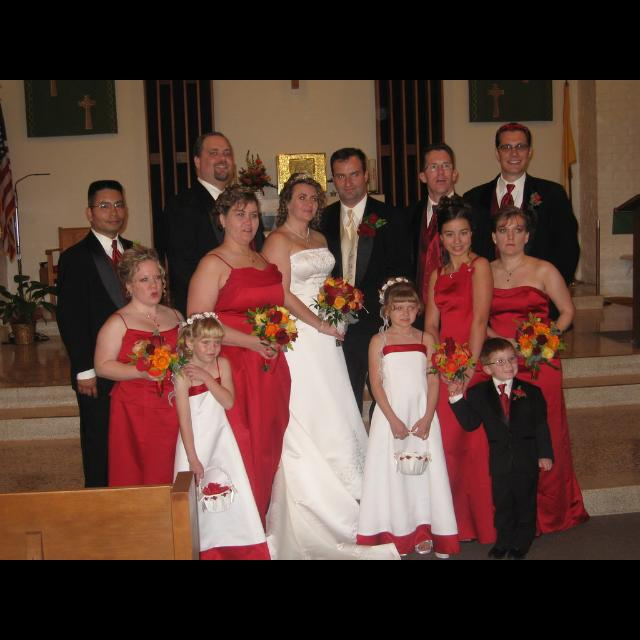Flower: (517, 318, 563, 362), (315, 278, 361, 316), (258, 310, 298, 348), (438, 340, 468, 380), (136, 336, 160, 380), (242, 160, 268, 188), (152, 353, 172, 369)
